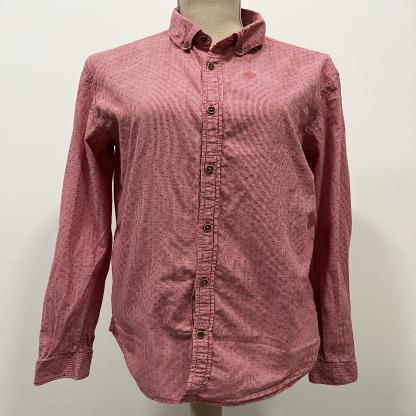stain: (242, 71, 259, 80)
